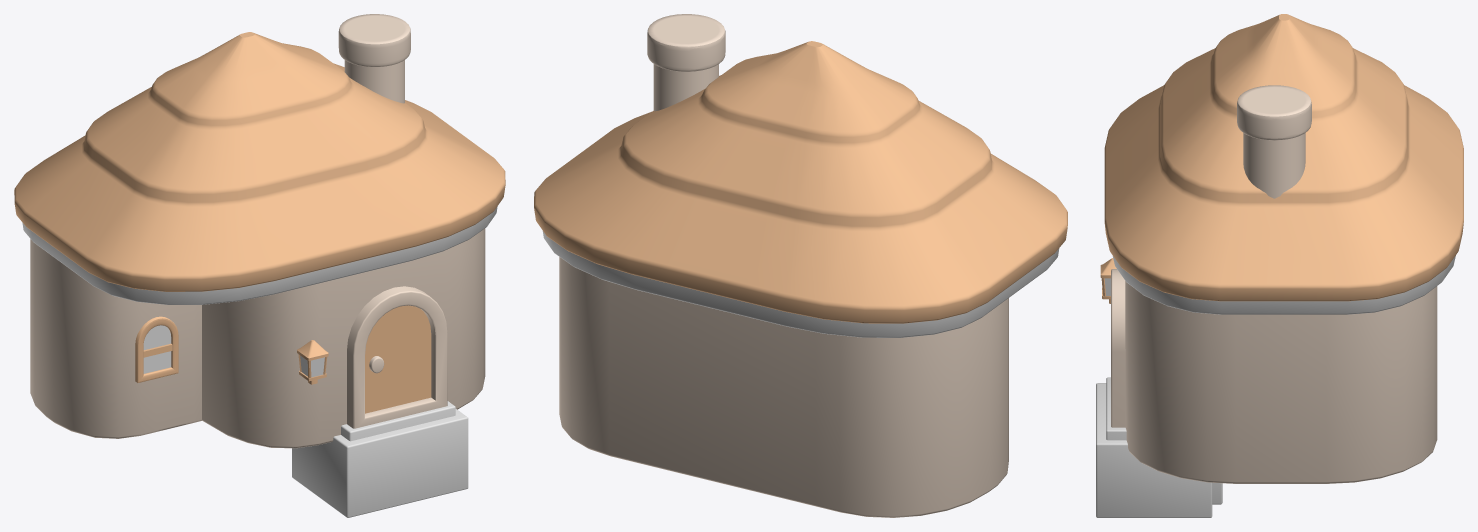
Rendered from House09.glb.
3 renders of one model, left to right at view 1: azimuth 30°, elevation 25°; view 2: azimuth 150°, elevation 25°; view 3: azimuth 270°, elevation 25°, orthographic. The views are drawn at different scales.
Visible parts, largest first — view 1: House, Cylinder.004, Door, Pipe, Window, Lamp; view 2: House, Pipe; view 3: House, Cylinder.004, Pipe, Door, Lamp.
Part boxes in pixels (left/top/right/bottom): House: left=14, top=32, right=505, bottom=448; Cylinder.004: left=292, top=401, right=468, bottom=517; Door: left=347, top=286, right=447, bottom=428; Pipe: left=338, top=14, right=410, bottom=103; Window: left=135, top=316, right=178, bottom=382; Lamp: left=297, top=340, right=328, bottom=384; House: left=534, top=41, right=1067, bottom=517; Pipe: left=647, top=14, right=725, bottom=111; House: left=1104, top=14, right=1463, bottom=483; Cylinder.004: left=1096, top=377, right=1222, bottom=517; Pipe: left=1237, top=85, right=1311, bottom=198; Door: left=1111, top=269, right=1125, bottom=427; Lamp: left=1100, top=258, right=1116, bottom=303.
Bounding box in the file's own units: 1.19 × 1.17 × 0.8951.
